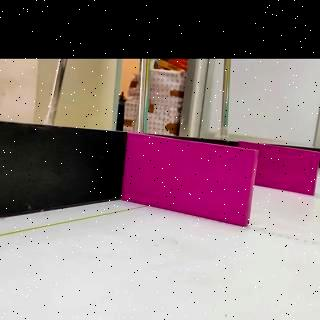xparking: (126, 151, 248, 216), (260, 152, 318, 194)
